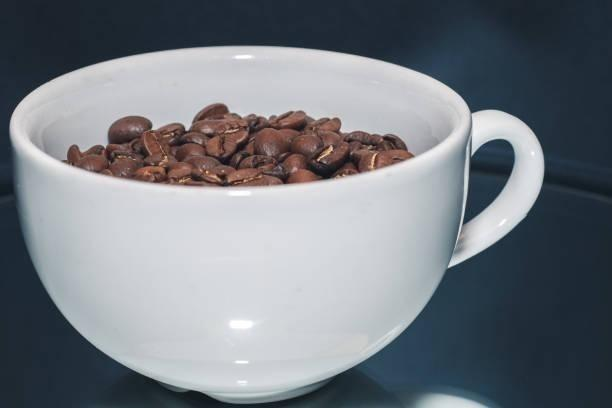cup-handle: (8, 39, 549, 406)
